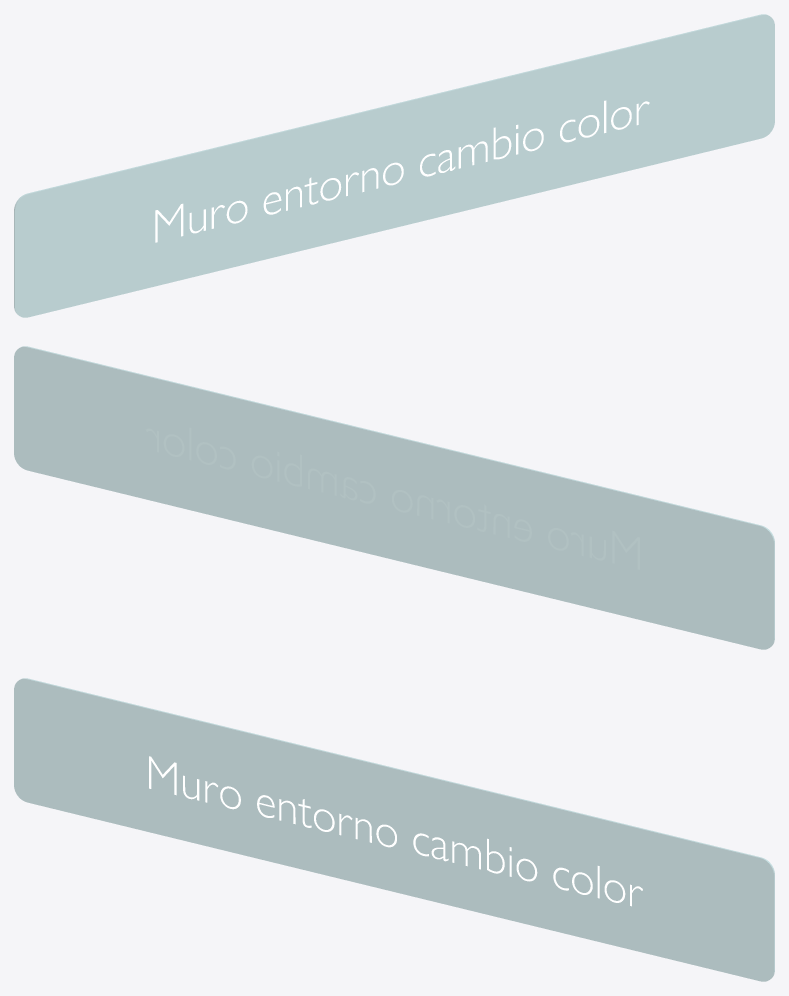
The model's file is Panel_boton_escena_02.glb.
3 renders of one model, top to bottom at view 1: azimuth 30°, elevation 25°; view 2: azimuth 150°, elevation 25°; view 3: azimuth 330°, elevation 25°, orthographic.
Visible parts, largest first — view 1: panel_boton_escena_02; view 2: panel_boton_escena_02; view 3: panel_boton_escena_02.
Boxes of the visible parts, bbox=[...] form: panel_boton_escena_02: bbox=[14, 14, 774, 317]; panel_boton_escena_02: bbox=[14, 346, 774, 649]; panel_boton_escena_02: bbox=[14, 678, 774, 981].
Size of the model in its own units: 1.24 by 0.1916 by 0.0107.
